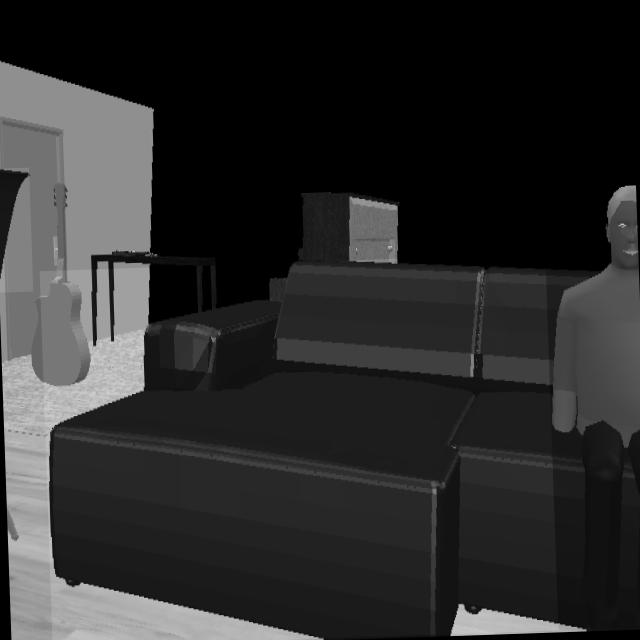chair: (0, 169, 29, 291)
person: (550, 186, 640, 630)
sofa: (47, 262, 597, 640)
